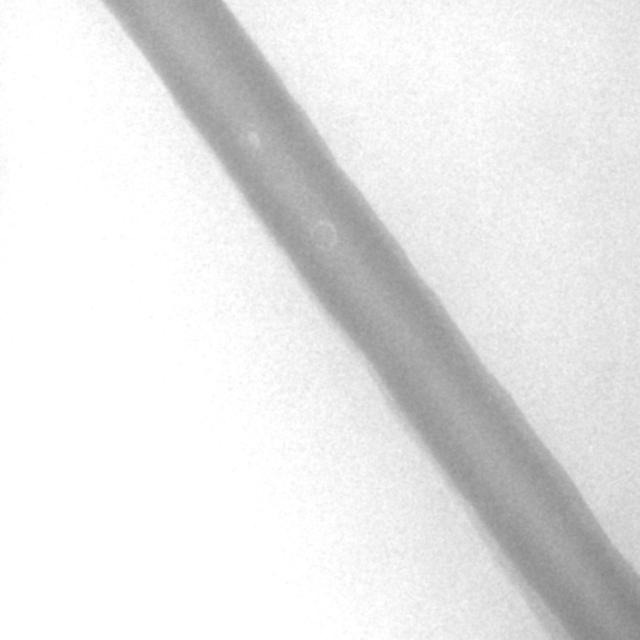air-hole: (250, 131, 258, 150)
